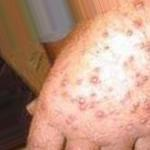Ants: (74, 95, 90, 112), (131, 72, 149, 87), (127, 99, 141, 115), (64, 115, 79, 128), (89, 75, 101, 87), (132, 16, 143, 29), (89, 93, 99, 107), (138, 41, 149, 51), (142, 98, 149, 113), (125, 124, 136, 133), (60, 77, 70, 86), (95, 110, 105, 117), (103, 46, 114, 52), (101, 29, 109, 37), (123, 91, 130, 100), (125, 29, 133, 36), (125, 56, 133, 62), (77, 77, 82, 85), (139, 118, 146, 123), (41, 102, 45, 110), (122, 61, 127, 67)
